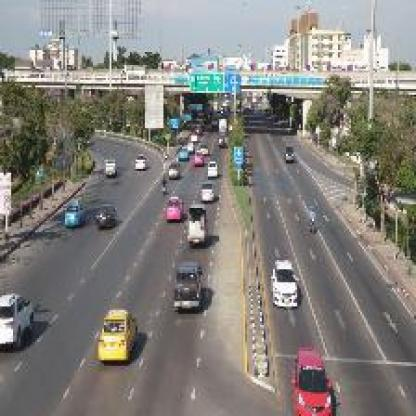other: (288, 339, 341, 411), (259, 256, 308, 303)
